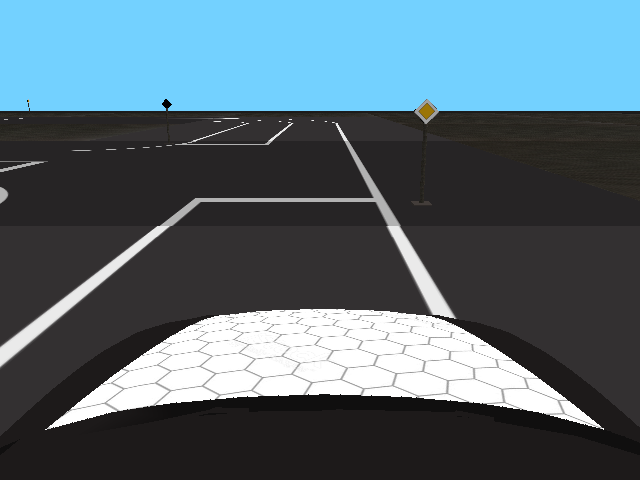yellow_light: (414, 98, 439, 123)
